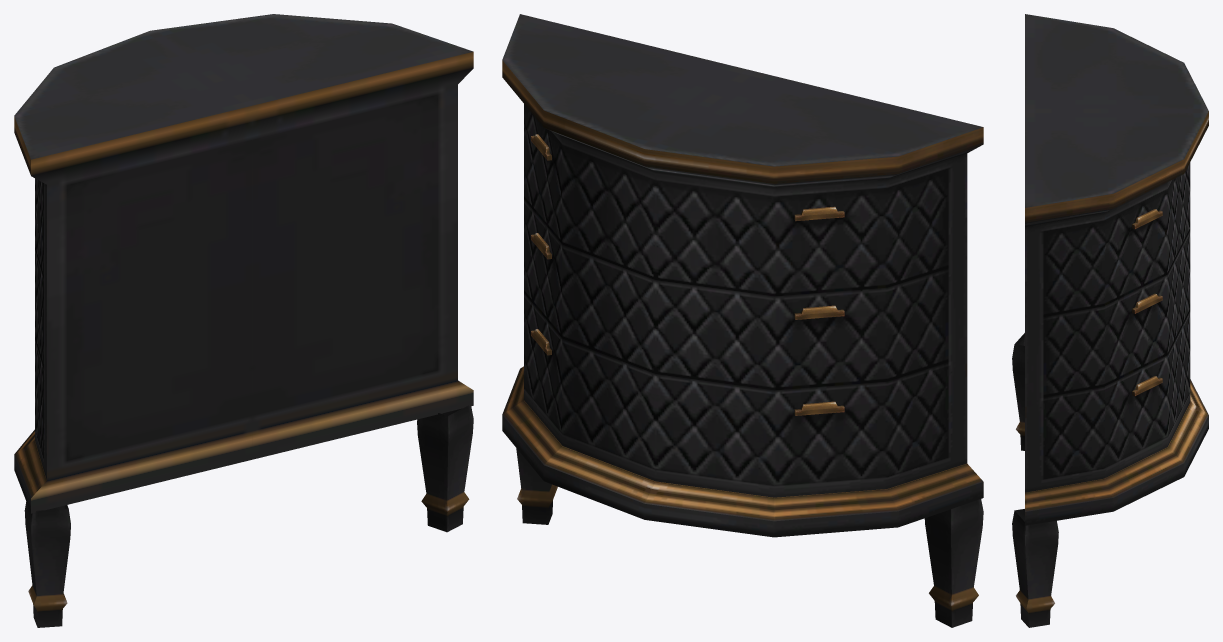
Rendered from furni_0200318.FBX.
3 renders of one model, left to right at view 1: azimuth 30°, elevation 25°; view 2: azimuth 150°, elevation 25°; view 3: azimuth 270°, elevation 25°, orthographic. The views are drawn at different scales.
Parts seen in each view (by area): view 1: furni_0200318; view 2: furni_0200318; view 3: furni_0200318.
Part boxes in pixels (box(x1,y1,x2,y2)): furni_0200318: box(14, 14, 473, 627); furni_0200318: box(502, 14, 983, 627); furni_0200318: box(1012, 14, 1208, 627).
Bounding box in the file's own units: 78.52 × 80 × 33.67.
1 material, 1 textured.
